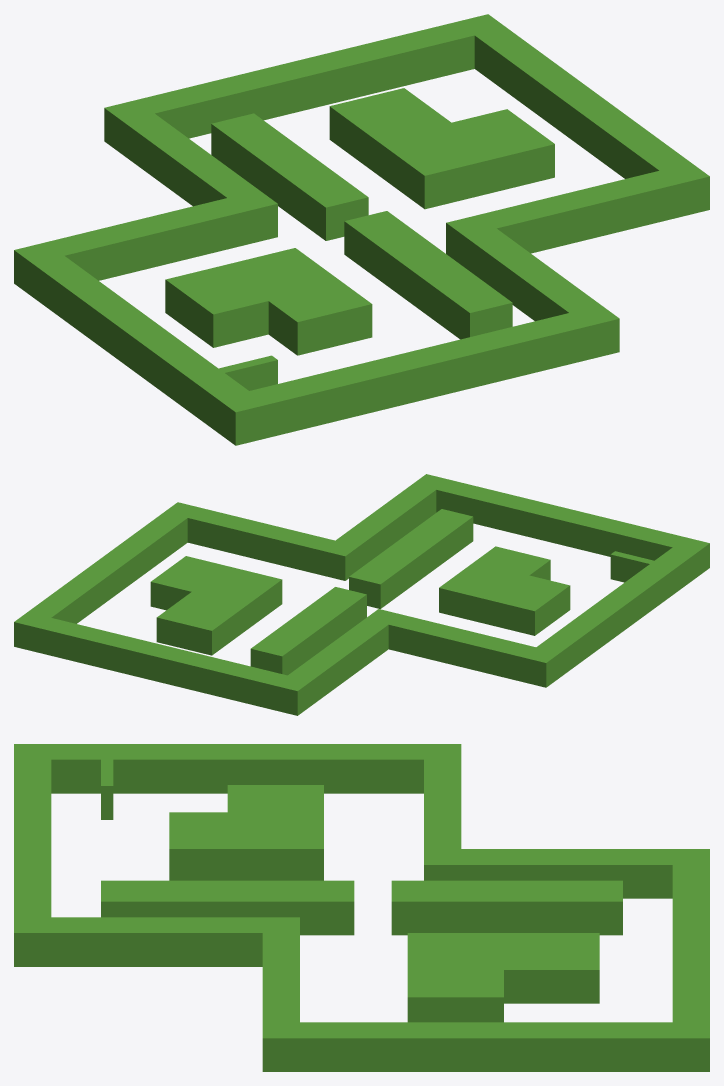
File: building.dae
The picture shows the model from 3 angles, top to bottom: view 1: azimuth 30°, elevation 25°; view 2: azimuth 150°, elevation 25°; view 3: azimuth 270°, elevation 25°; orthographic projection. The views are drawn at different scales.
Parts seen in each view (by area): view 1: 5e90a37d1a554115da0897bf (×5); view 2: 5e90a37d1a554115da0897bf (×5); view 3: 5e90a37d1a554115da0897bf (×5).
Boxes of the visible parts, x1,y1,x2,y2 form: 5e90a37d1a554115da0897bf (×5): [14, 14, 709, 445]; 5e90a37d1a554115da0897bf (×5): [14, 474, 709, 715]; 5e90a37d1a554115da0897bf (×5): [14, 744, 709, 1071].
Bounding box in the file's own units: 28 × 28 × 1.5.
